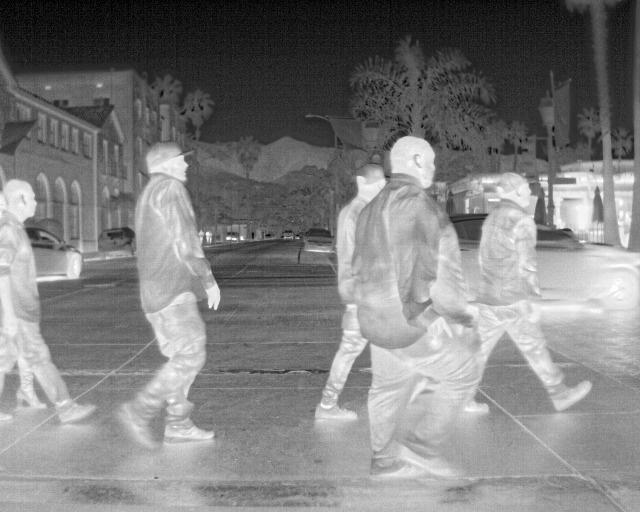bicycle: (536, 220, 638, 314), (448, 209, 488, 305), (26, 227, 84, 280), (95, 226, 138, 258), (301, 227, 336, 254), (281, 228, 297, 241)
empty: (350, 131, 476, 482), (113, 137, 223, 449), (463, 170, 595, 417), (0, 178, 99, 425), (312, 162, 388, 425)
